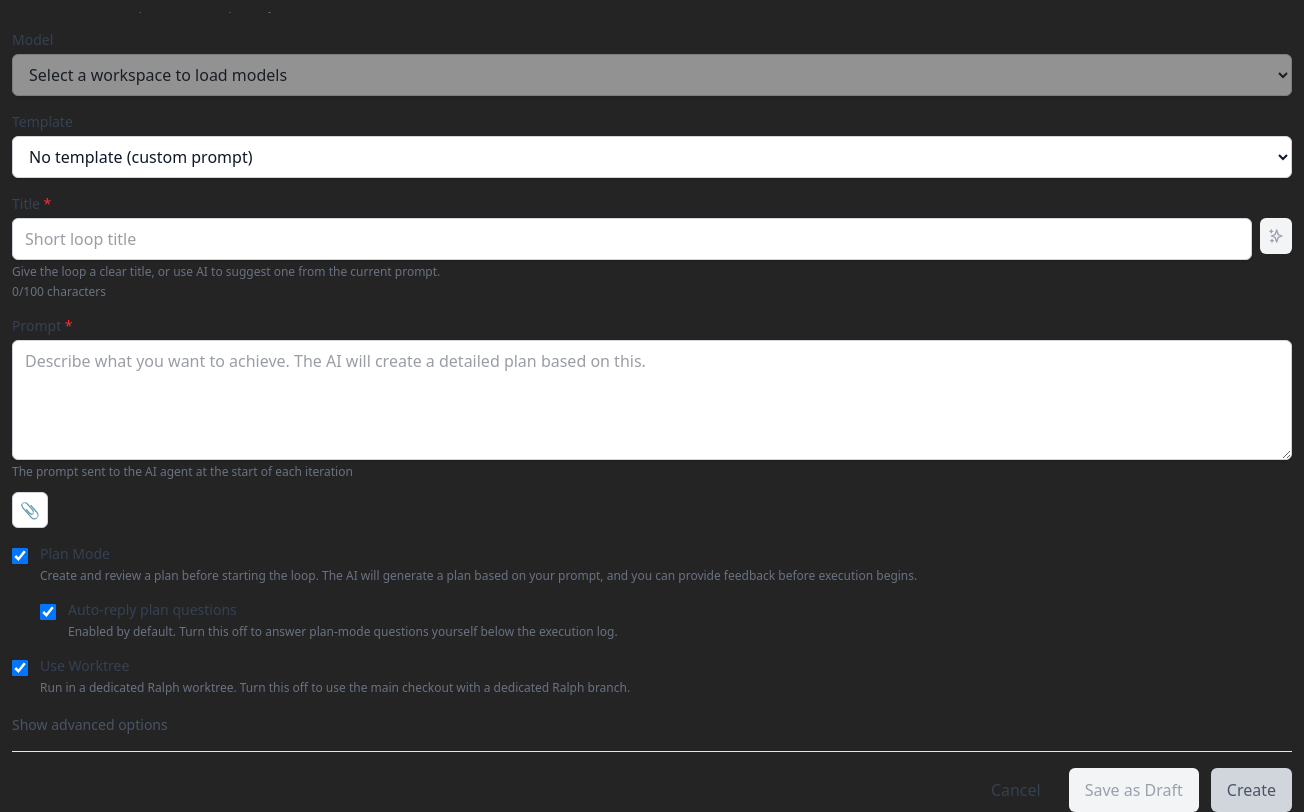
Test: CreateLoopForm › advanced options › shows clear planning folder checkbox in advanced options
(page scrolled)
Click the button "Show advanced options": click(90, 725) [12, 715, 168, 735]
(page scrolled)
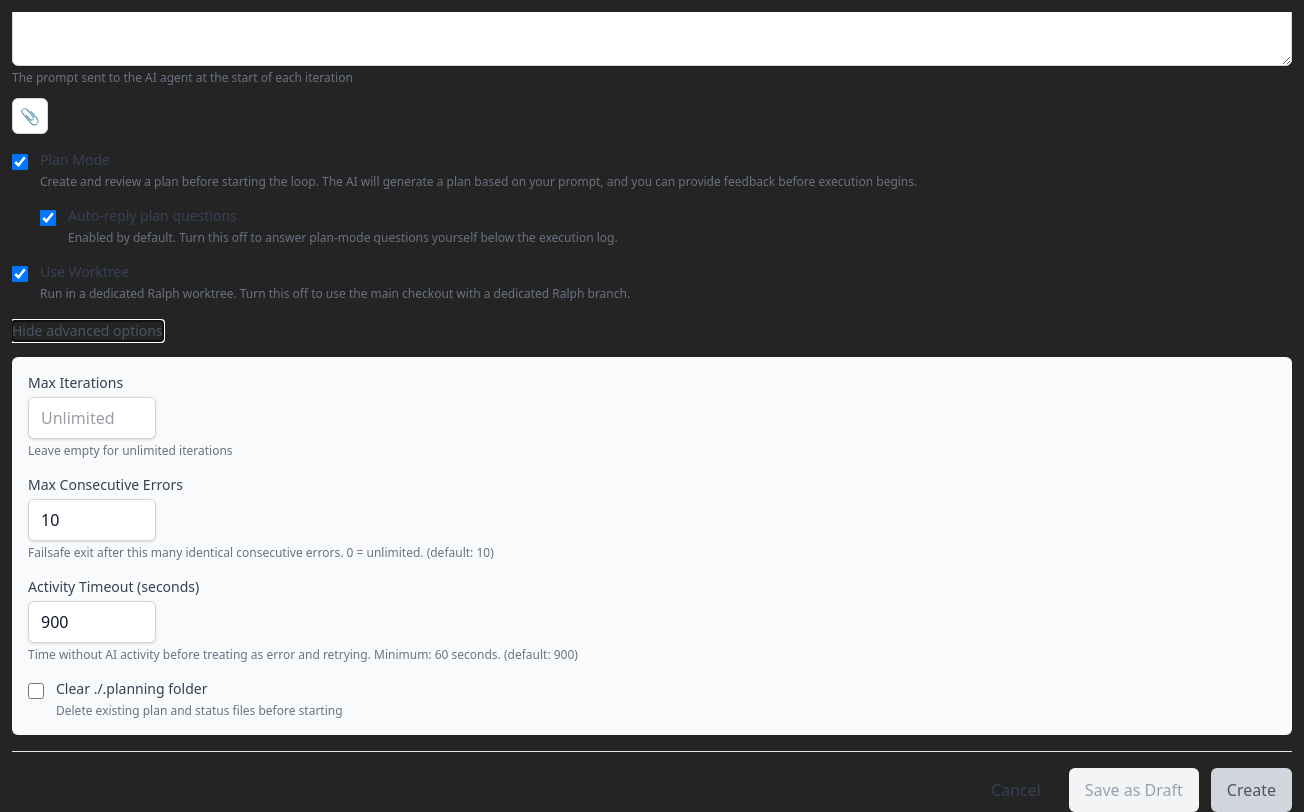
expect the checkbox labelled "Clear ./.planning folder" is shown: met, box [28, 683, 44, 699]
